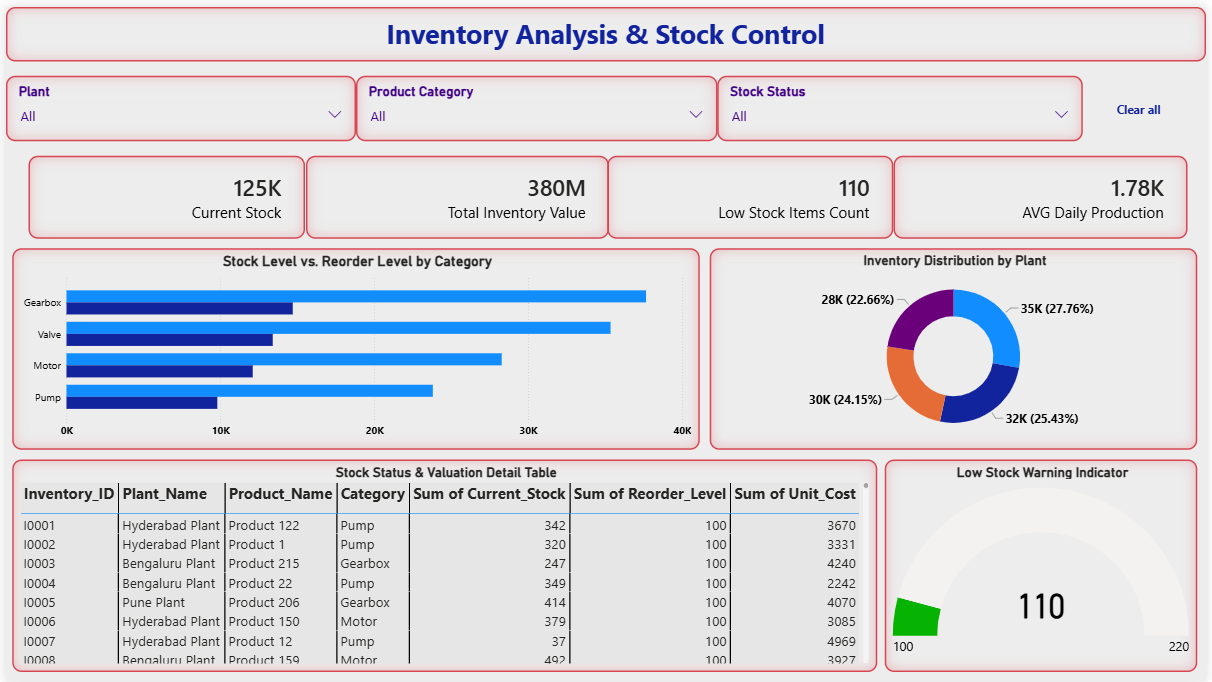

Layout of this report page (visuals, bound fields, positions):
{"tool":"powerbi","page":{"name":"Inventory Analysis","canvas":[1920,1080],"ordinal":4},"visuals":[{"type":"textbox","box":[0,0,1920,87.5],"z":0},{"type":"slicer","fields":{"Values":["Plants.Plant_Name"]},"box":[0,110,635,105],"z":1000},{"type":"slicer","fields":{"Values":["Products.Category"]},"box":[642.5,110,635,105],"z":2000},{"type":"slicer","fields":{"Values":["Inventory.Stock Status"]},"box":[1285,110,635,105],"z":3000},{"type":"cardVisual","fields":{"Data":["_Measures.Current Stock"]},"box":[35,237.5,442.5,132.5],"z":4000},{"type":"cardVisual","fields":{"Data":["_Measures.Total Inventory Value"]},"box":[480,237.5,485,132.5],"z":5000},{"type":"cardVisual","fields":{"Data":["_Measures.Low Stock Items Count"]},"box":[962.5,237.5,457.5,132.5],"z":6000},{"type":"cardVisual","fields":{"Data":["_Measures.AVG Daily Production"]},"box":[1420,237.5,470,132.5],"z":7000},{"type":"clusteredBarChart","title":"Stock Level vs. Reorder Level by Category","fields":{"Category":["Products.Category"],"Y":["_Measures.Current Stock","_Measures.Total Reorder Level"]},"box":[10,386,1100,322],"z":8000},{"type":"donutChart","title":"Inventory Distribution by Plant","fields":{"Category":["Plants.Plant_Name"],"Y":["_Measures.Current Stock"]},"box":[1126,386,780,322],"z":9000},{"type":"gauge","title":"Low Stock Warning Indicator","fields":{"Y":["_Measures.Low Stock Items Count"]},"box":[1406,724,500,340],"z":10000},{"type":"tableEx","title":"Stock Status & Valuation Detail Table","fields":{"Values":["Inventory.Inventory_ID","Plants.Plant_Name","Products.Product_Name","Products.Category","Sum(Inventory.Current_Stock)","Sum(Inventory.Reorder_Level)","Sum(Products.Unit_Cost)"]},"box":[10,724,1384,340],"z":11000}]}

Visuals, with their boxes in screenshot pixels (x1, y1, x2, y2), scaled from the page's 1920x1080 canvas onto the 1212x682 screenshot:
textbox: Rect(0, 0, 1211, 55)
slicer - Plants.Plant_Name: Rect(0, 69, 401, 136)
slicer - Products.Category: Rect(406, 69, 806, 136)
slicer - Inventory.Stock Status: Rect(811, 69, 1211, 136)
cardVisual - _Measures.Current Stock: Rect(22, 150, 301, 234)
cardVisual - _Measures.Total Inventory Value: Rect(303, 150, 609, 234)
cardVisual - _Measures.Low Stock Items Count: Rect(608, 150, 896, 234)
cardVisual - _Measures.AVG Daily Production: Rect(896, 150, 1193, 234)
"Stock Level vs. Reorder Level by Category" clusteredBarChart: Rect(6, 244, 701, 447)
"Inventory Distribution by Plant" donutChart: Rect(711, 244, 1203, 447)
"Low Stock Warning Indicator" gauge: Rect(888, 457, 1203, 672)
"Stock Status & Valuation Detail Table" tableEx: Rect(6, 457, 880, 672)
